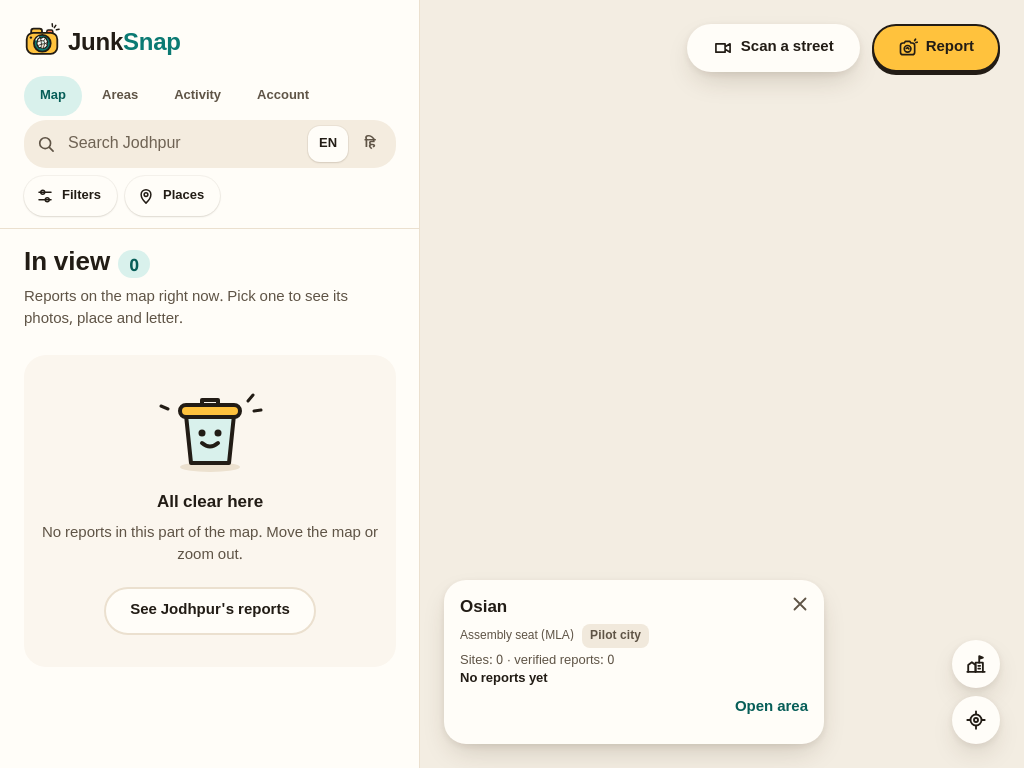
it: Tapping an area on the map › says "No reports yet" for an area nobody has reported in, and closes with its close button
expect the text "No reports yet" is shown: met, box [460, 670, 548, 687]
expect the text "Sites: 0 · verified reports: 0" is shown: met, box [460, 652, 614, 669]
Step 1. Click the button named "Close area card" → x=800, y=604, box [780, 584, 820, 624]
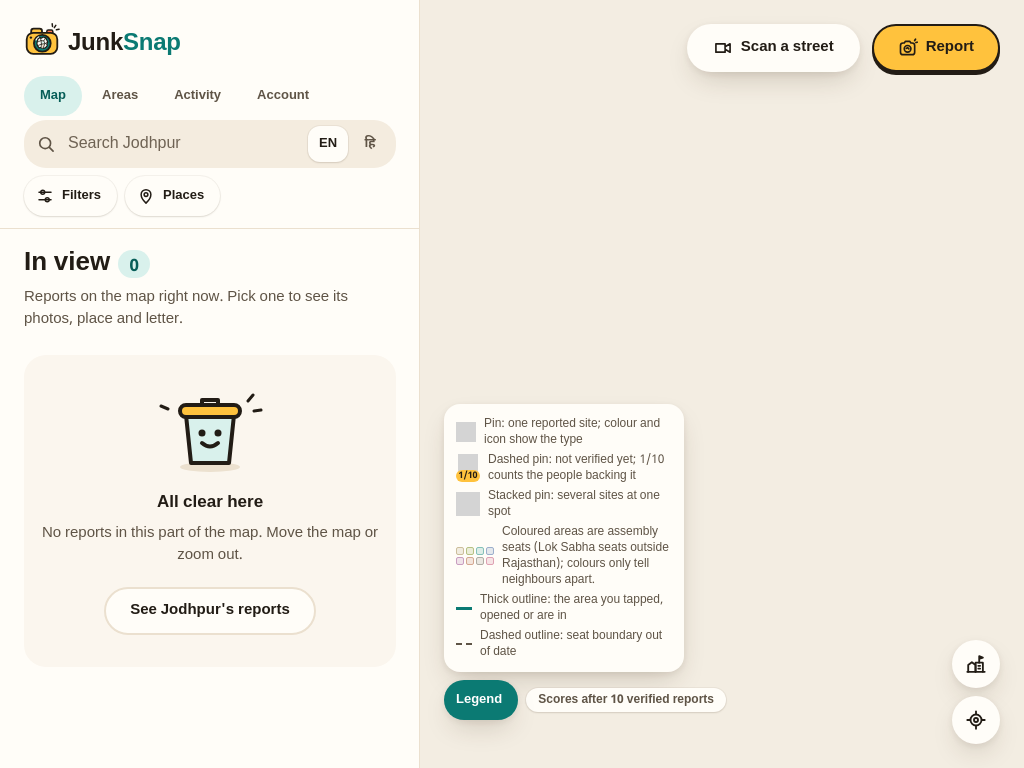
expect the text "Osian" is gone: met
